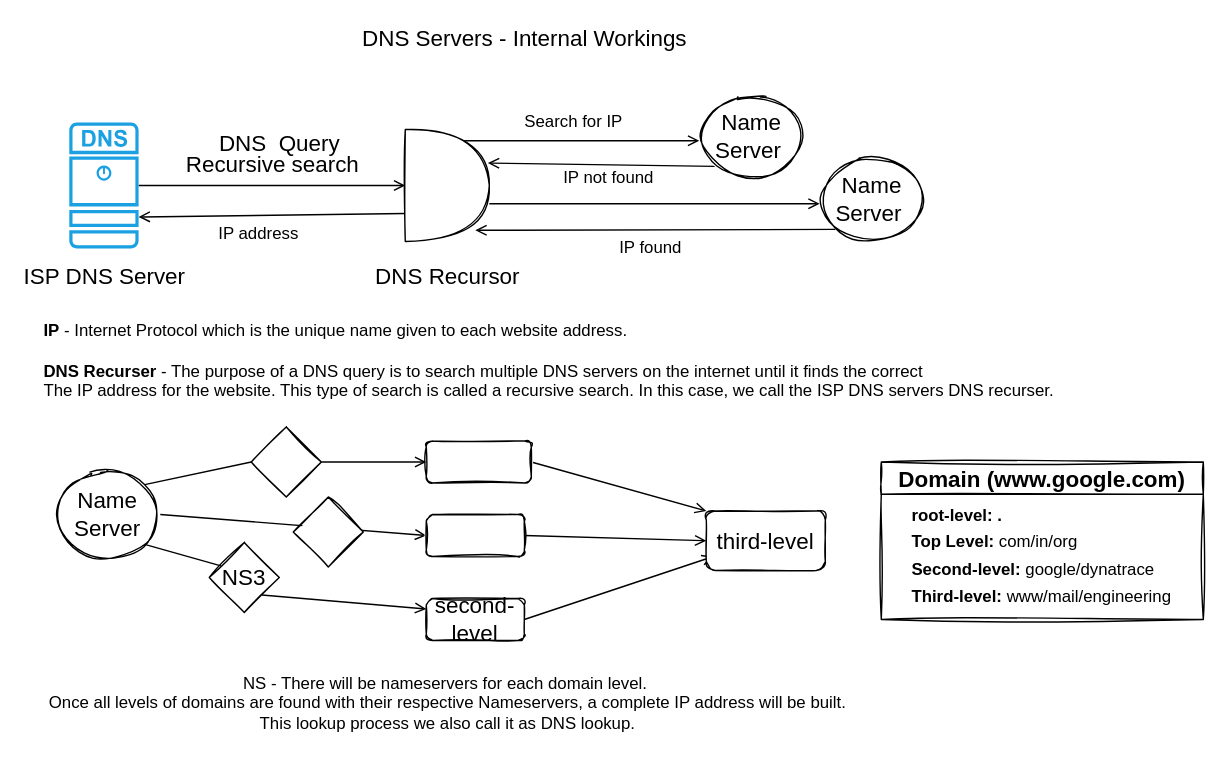
Image size: 1228x762. Some labels were removed from this diagram. The shapes that lost their labels are listed below. From the top down, each one's box as (x1, y1, x2, y2) in pixels, then its label:
(250, 426, 321, 497): NS1
(425, 440, 531, 483): root-level
(292, 496, 363, 567): NS2
(425, 513, 524, 556): top-level
